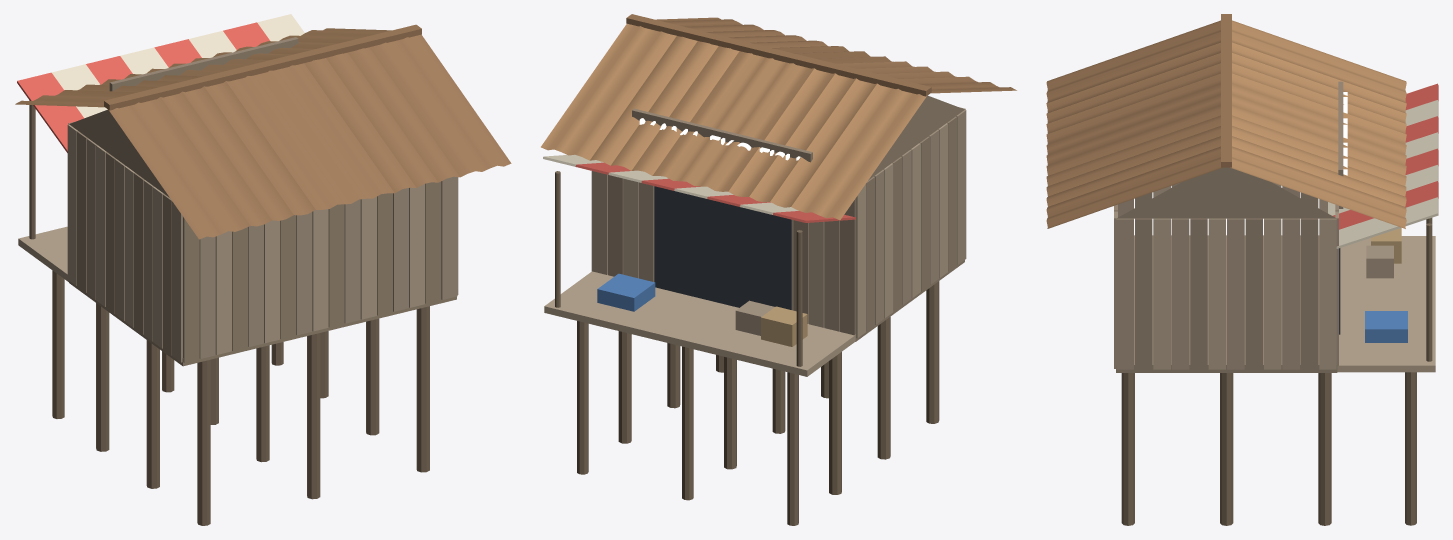
File: stilt_shop.glb
3 renders of one model, left to right at view 1: azimuth 30°, elevation 25°; view 2: azimuth 150°, elevation 25°; view 3: azimuth 270°, elevation 25°, orthographic. The views are drawn at different scales.
Parts seen in each view (by area): view 1: MK_stilt_shop; view 2: MK_stilt_shop; view 3: MK_stilt_shop.
Part boxes in pixels (<box>): MK_stilt_shop: <box>15,14,511,525</box>; MK_stilt_shop: <box>541,14,1016,525</box>; MK_stilt_shop: <box>1046,14,1438,525</box>.
Size of the model in its own units: 5.7 by 6.88 by 6.38.
